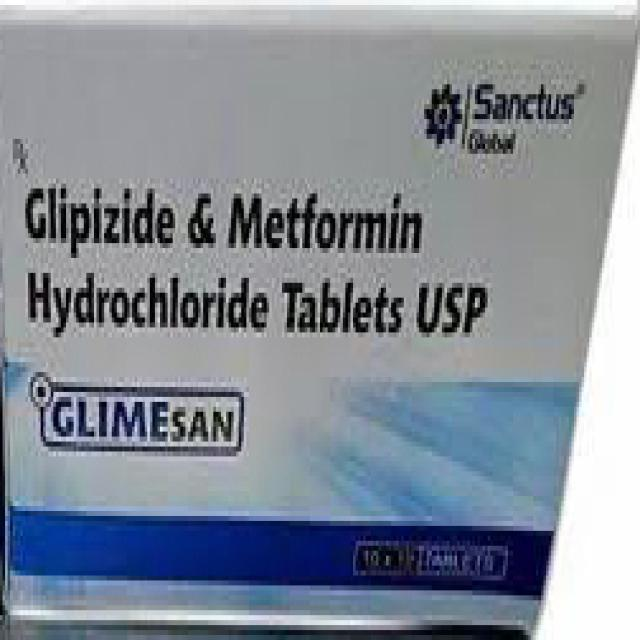drug-name: (45, 392, 237, 450)
